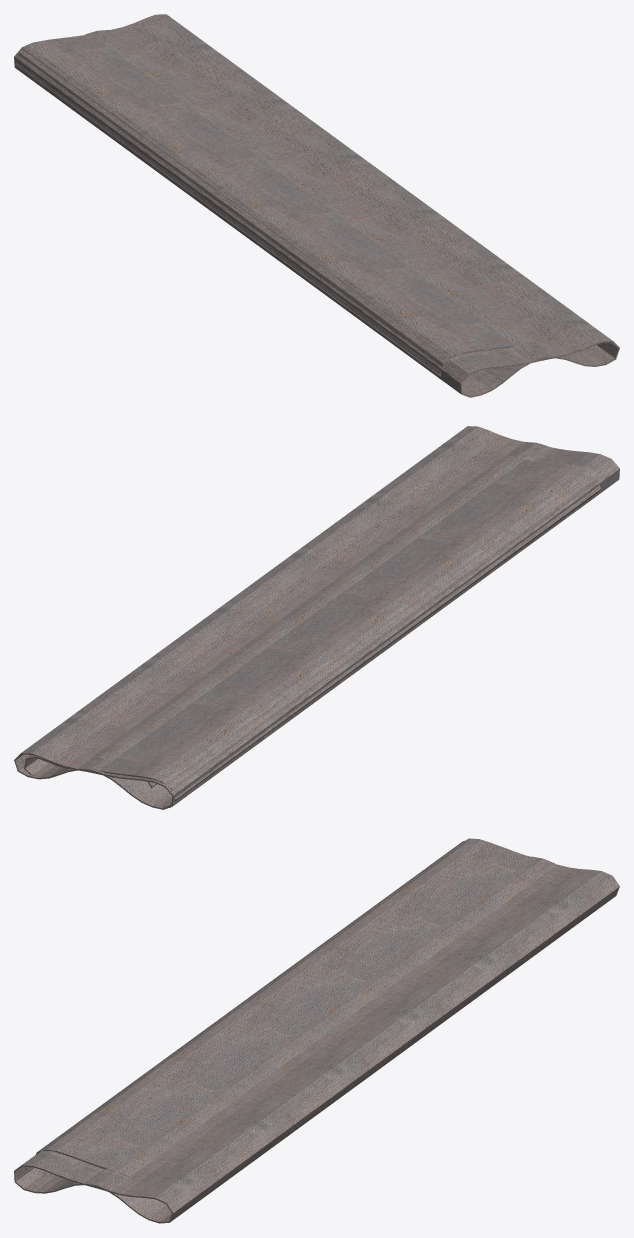
The model's file is sail_ground.fbx.
3 renders of one model, top to bottom at view 1: azimuth 30°, elevation 25°; view 2: azimuth 150°, elevation 25°; view 3: azimuth 330°, elevation 25°, orthographic.
Parts seen in each view (by area): view 1: Cylinder.001; view 2: Cylinder.001; view 3: Cylinder.001.
Part boxes in pixels (x1,y1,x2,y2): Cylinder.001: [14, 14, 619, 397]; Cylinder.001: [14, 426, 619, 809]; Cylinder.001: [14, 838, 619, 1223].
Bounding box in the file's own units: 67.6 × 11.18 × 326.
Materials: 1 (1 with a texture image).
